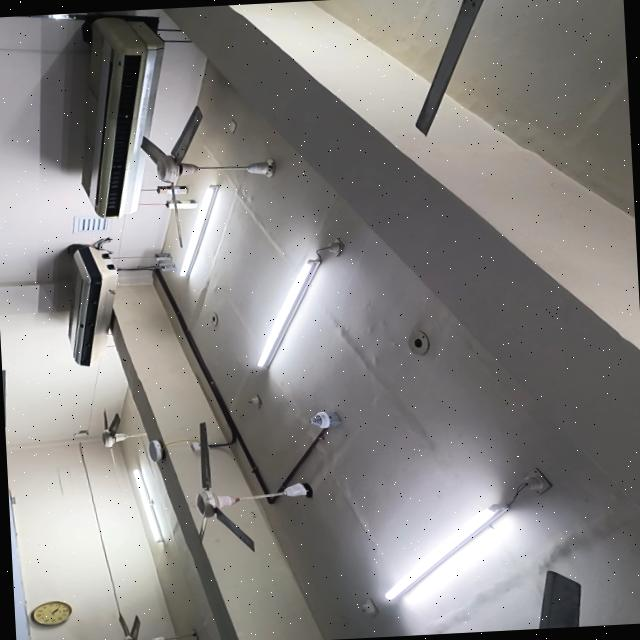Ac: (83, 16, 165, 218), (67, 237, 118, 365)
Light: (257, 239, 343, 367), (386, 508, 496, 598), (179, 184, 219, 277), (133, 468, 165, 542)
